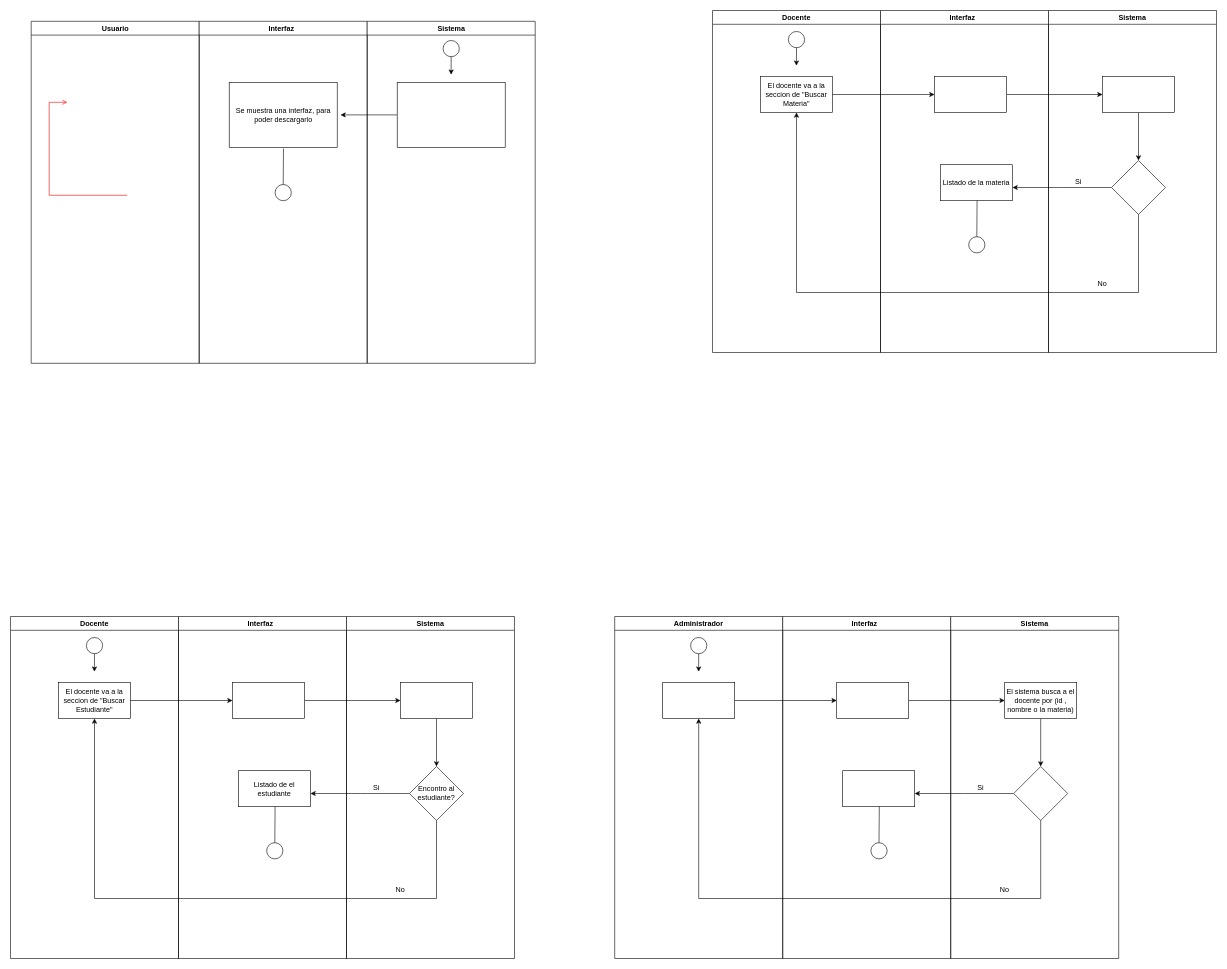
The diagram is 1227 pixels wide and 969 high, and some of its shapes have lost their labels. Each missing label, with the centre of its shape:
El administrador va a la seccion de "Buscar Docentes": the point at 698,700
El sistema busca a el estudiante por (id , nombre o la matricula): the point at 436,700
El sistema busca a la materia por (id o nombre): the point at 1138,94
Encontro al docente?: the point at 1040,793
Encontro la materia?: the point at 1138,187
Ingresa en la interfaz el id o el nombre: the point at 970,94
Ingresa en la interfaz el id, el nombre o la materia: the point at 872,700
Ingresa en la interfaz el id, el nombre o la matricula: the point at 268,700
Listado de el docente: the point at 878,788
Se ingresa el archivo (pdf) desde el sistema.: the point at 451,114
